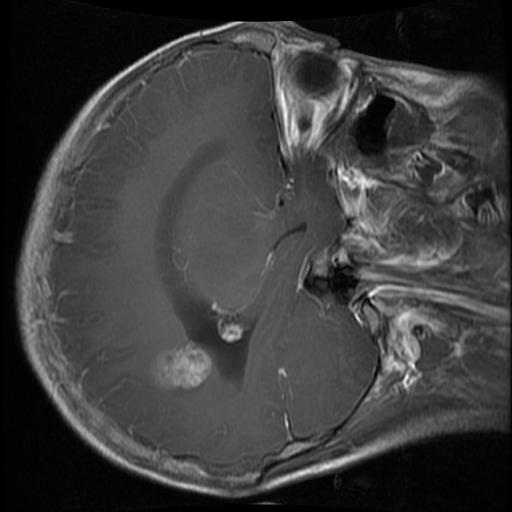glioma: (141, 342, 209, 394)
